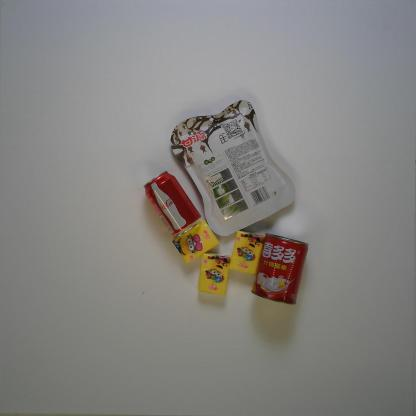Canned Food: (250, 232, 310, 304)
Dried Fruit: (170, 99, 296, 238)
Drink: (143, 170, 202, 238)
Tissue: (171, 219, 220, 265), (229, 230, 265, 276), (197, 252, 232, 296)
